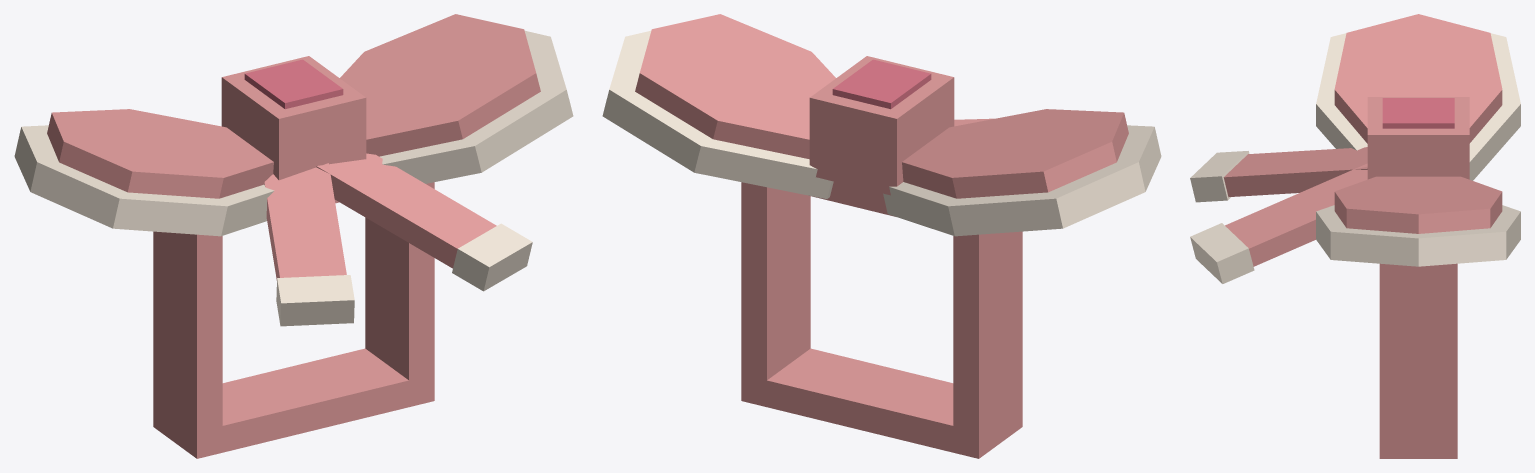
Rendered from CatCafe_Accessory_TailBow.glb.
The picture shows the model from 3 angles, left to right: view 1: azimuth 30°, elevation 25°; view 2: azimuth 150°, elevation 25°; view 3: azimuth 270°, elevation 25°; orthographic projection. The views are drawn at different scales.
Visible parts, largest first — view 1: CatCafe_Accessory_TailBow; view 2: CatCafe_Accessory_TailBow; view 3: CatCafe_Accessory_TailBow.
Part boxes in pixels (left/top/right/bottom): CatCafe_Accessory_TailBow: left=14, top=14, right=573, bottom=458; CatCafe_Accessory_TailBow: left=602, top=14, right=1161, bottom=458; CatCafe_Accessory_TailBow: left=1190, top=14, right=1520, bottom=458.
Size of the model in its own units: 0.4528 by 0.273 by 0.2759.
1 material, 1 textured.
